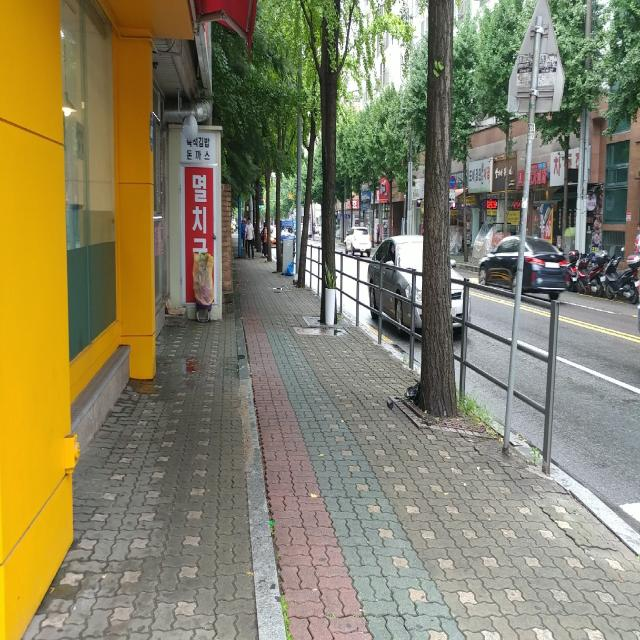car: (368, 235, 472, 338), (478, 234, 568, 301)
motorbike: (604, 244, 640, 304), (576, 244, 608, 298), (568, 250, 580, 292)
